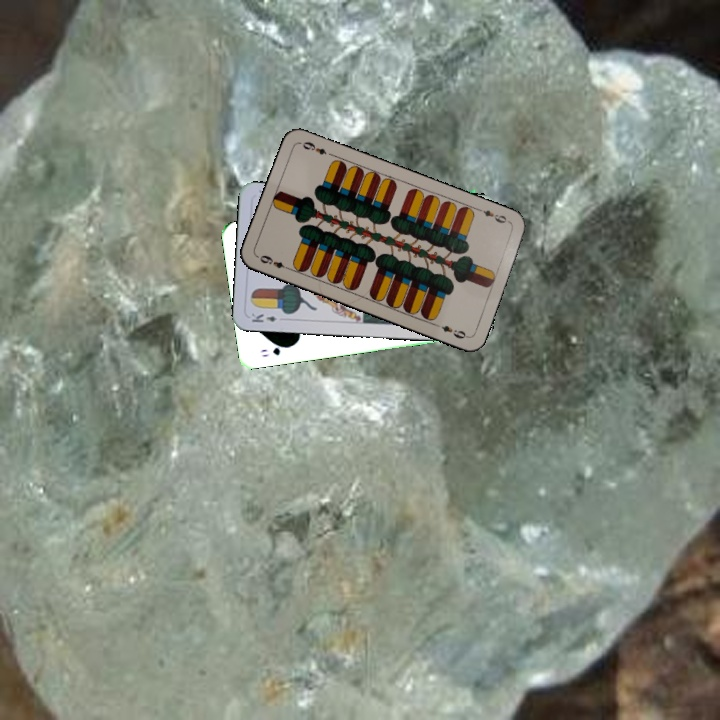E9: (474, 205, 513, 226), (256, 251, 293, 273)
EK: (247, 309, 288, 325)
GO: (256, 341, 293, 359)
